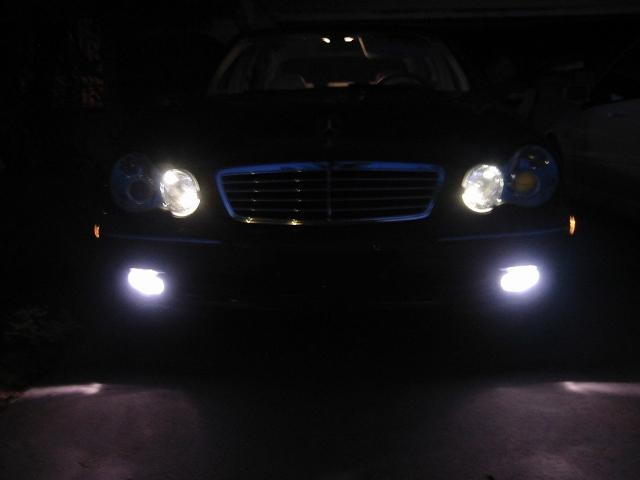car: (79, 12, 598, 355)
